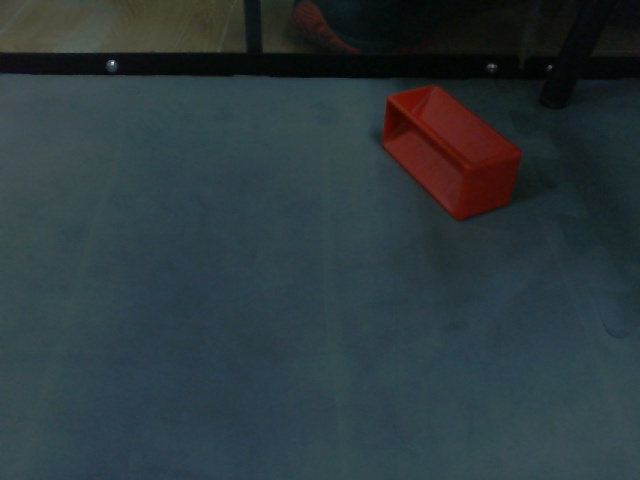RedSample: (379, 81, 525, 224)
